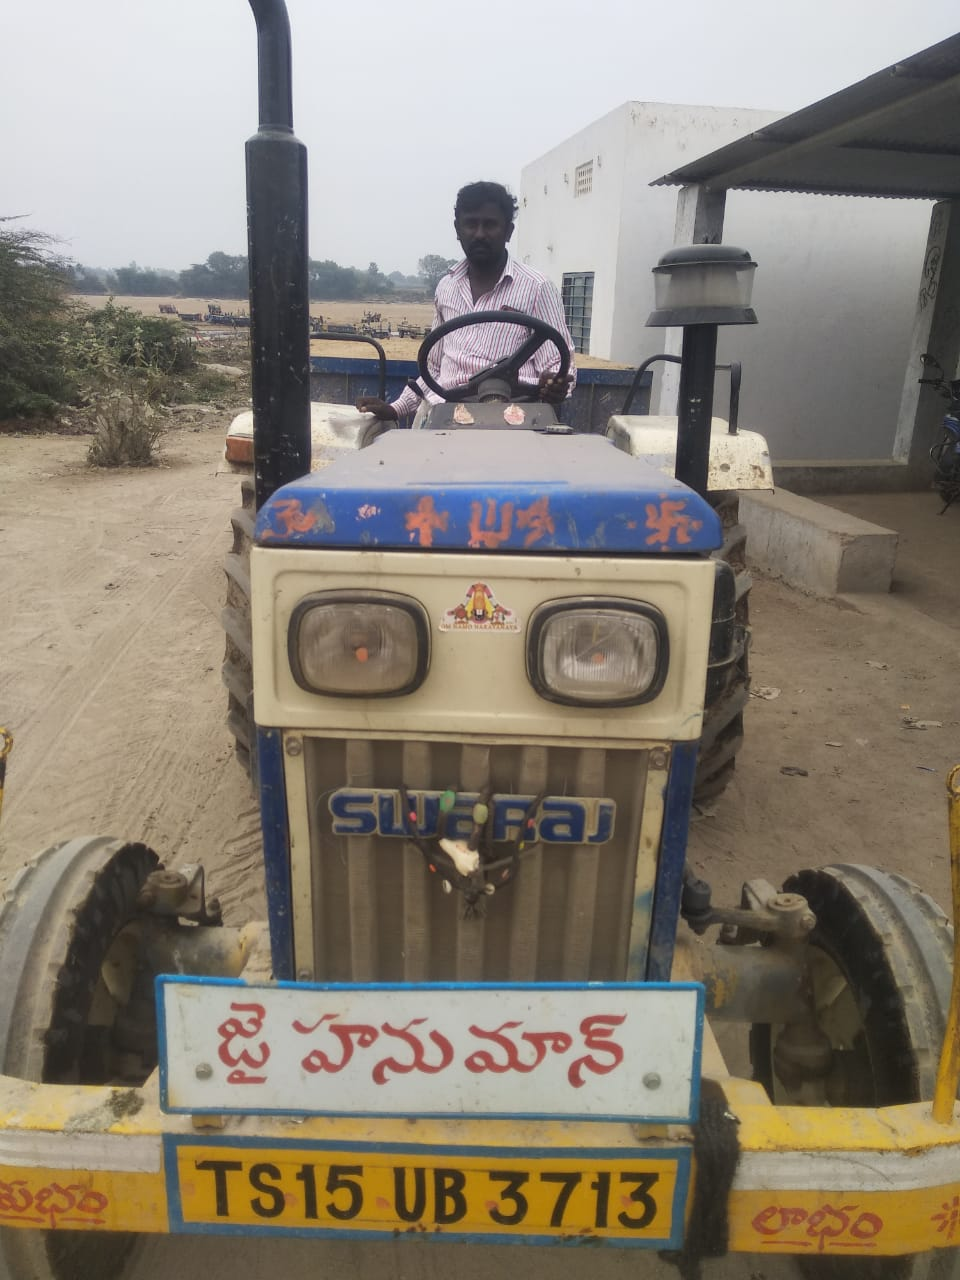license_plate: (163, 1137, 678, 1243)
